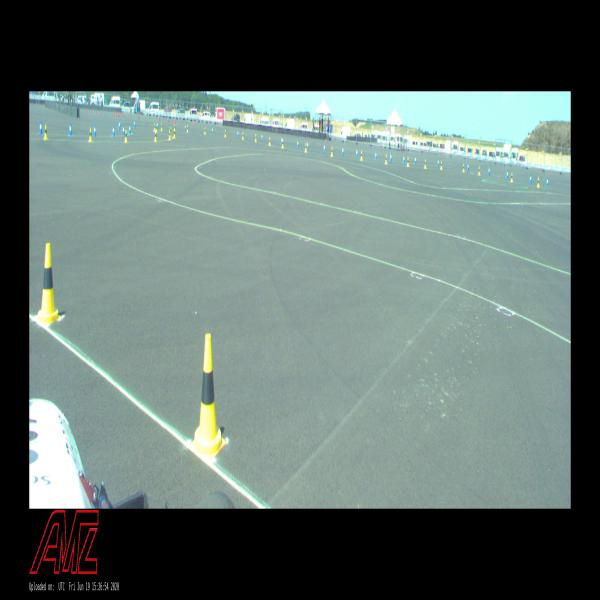blue_cone: (68, 123, 72, 136), (93, 125, 97, 137), (39, 121, 42, 134), (122, 125, 125, 136), (112, 126, 115, 136), (529, 174, 532, 184), (506, 170, 509, 179), (323, 144, 326, 153), (546, 178, 549, 186), (129, 124, 131, 134), (488, 166, 490, 175), (390, 153, 392, 162), (375, 151, 377, 160), (403, 155, 405, 163), (356, 149, 358, 157), (467, 163, 469, 171), (342, 147, 344, 155), (438, 158, 440, 166), (297, 140, 299, 148), (237, 130, 239, 138), (118, 122, 120, 130), (414, 157, 416, 164), (261, 134, 263, 141), (307, 141, 308, 149), (212, 126, 213, 134)
yellow_cone: (191, 334, 225, 460), (36, 244, 61, 323), (44, 124, 48, 140), (124, 130, 128, 143), (89, 128, 92, 141), (154, 131, 157, 142), (537, 177, 540, 187), (478, 166, 481, 176), (510, 172, 513, 182), (304, 142, 307, 152), (360, 150, 363, 160), (281, 139, 284, 149), (173, 128, 176, 138), (168, 130, 171, 140), (169, 126, 172, 136), (462, 164, 465, 172), (331, 146, 333, 157), (424, 159, 426, 169), (407, 157, 409, 166), (386, 155, 388, 164), (268, 137, 270, 146), (440, 161, 442, 170), (242, 132, 244, 140), (160, 123, 162, 131), (154, 123, 156, 131), (204, 128, 206, 134), (186, 126, 188, 132), (225, 129, 226, 138), (255, 134, 256, 142), (156, 124, 157, 132)
